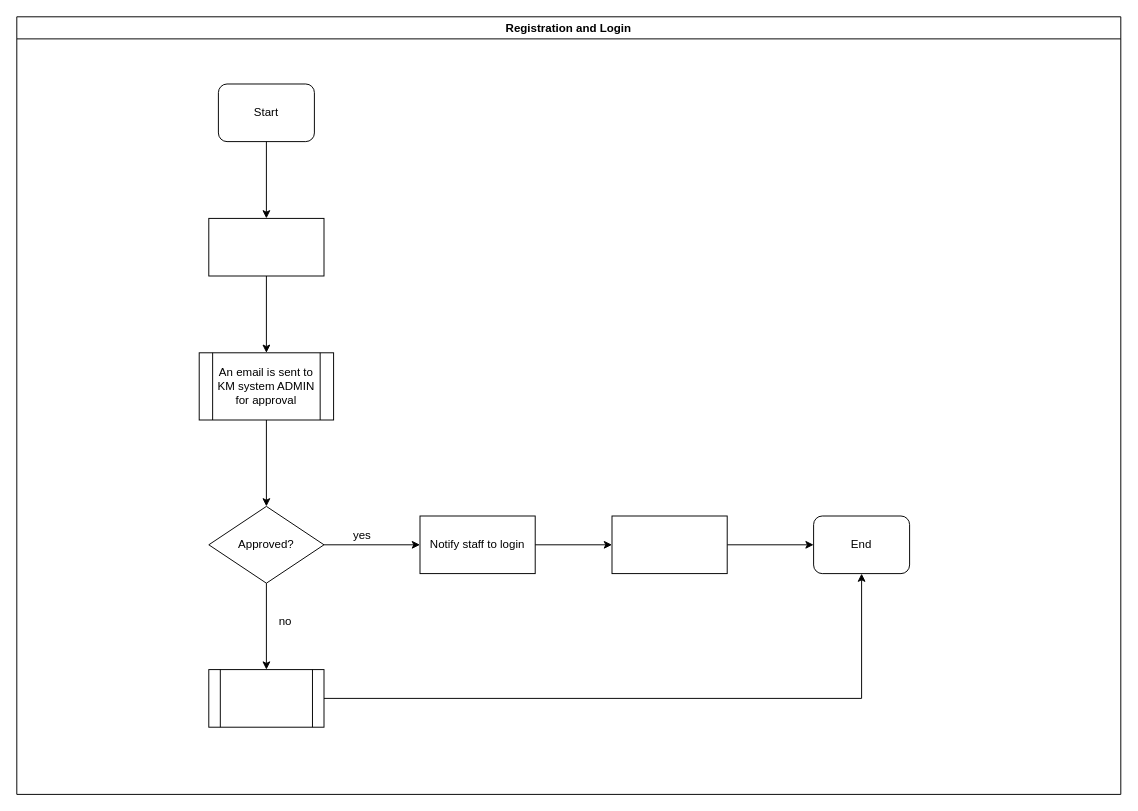
Some shapes in this 1138 by 811 pixel diagram are drawn without their labels. The shapes that lost their labels are listed below. From the top down, each one's centre as x and y in pixels, then its label:
[266,246]: KEFRI staff registers an account in the KM portal
[669,544]: Staff logs in
[266,698]: Notify staff
